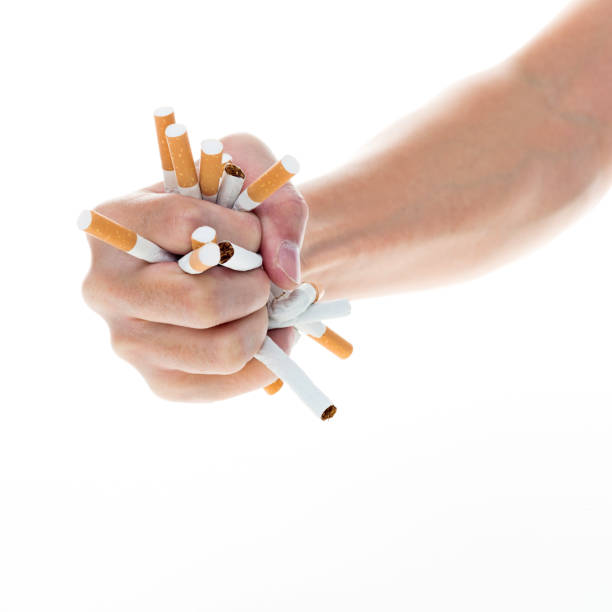cigarette: (251, 333, 339, 422), (74, 208, 179, 263), (232, 153, 300, 212), (268, 296, 353, 331), (164, 123, 203, 199), (151, 102, 180, 195), (267, 280, 321, 325), (297, 321, 355, 361), (197, 138, 225, 204), (176, 242, 222, 277), (215, 240, 263, 273), (215, 162, 246, 209), (189, 224, 219, 252), (262, 377, 285, 398)
